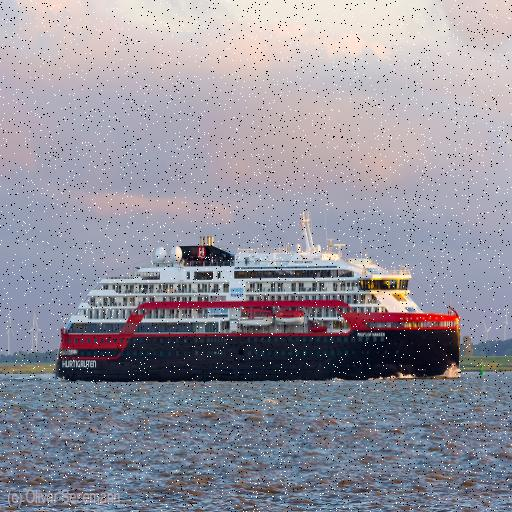cruises: (53, 206, 467, 393)
